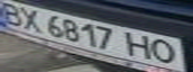1: (78, 20, 96, 47)
6: (42, 12, 66, 38)
7: (93, 24, 118, 52)
8: (60, 16, 81, 43)
B: (0, 0, 27, 27)
H: (124, 30, 157, 60)
O: (148, 37, 184, 65)
X: (18, 7, 48, 34)
